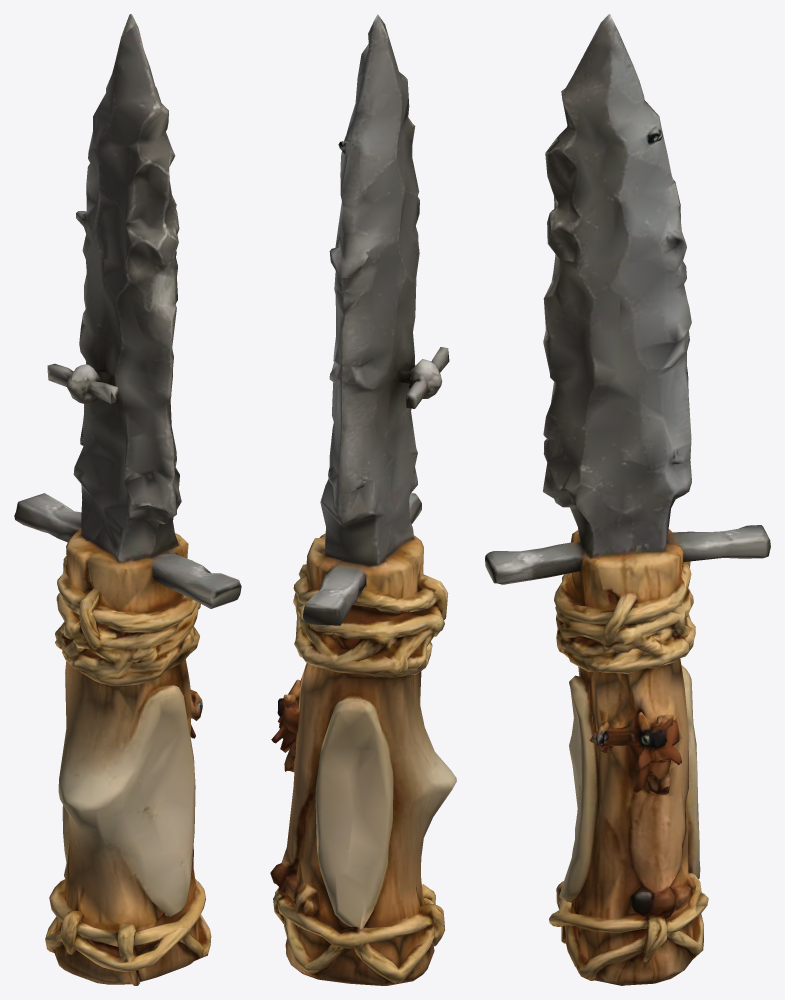
Rendered from cuchillo_piedra.glb.
The picture shows the model from 3 angles, left to right: view 1: azimuth 30°, elevation 25°; view 2: azimuth 150°, elevation 25°; view 3: azimuth 270°, elevation 25°; orthographic projection.
Parts seen in each view (by area): view 1: tripo_node_bb29ccb8-03d0-4a64-aa38-9037d4a60bbf; view 2: tripo_node_bb29ccb8-03d0-4a64-aa38-9037d4a60bbf; view 3: tripo_node_bb29ccb8-03d0-4a64-aa38-9037d4a60bbf.
Part boxes in pixels (x1,y1,x2,y2): tripo_node_bb29ccb8-03d0-4a64-aa38-9037d4a60bbf: (14,14,241,985); tripo_node_bb29ccb8-03d0-4a64-aa38-9037d4a60bbf: (270,14,456,985); tripo_node_bb29ccb8-03d0-4a64-aa38-9037d4a60bbf: (485,14,770,985).
Bounding box in the file's own units: 0.1726 × 0.9993 × 0.276.
1 material, 1 textured.
